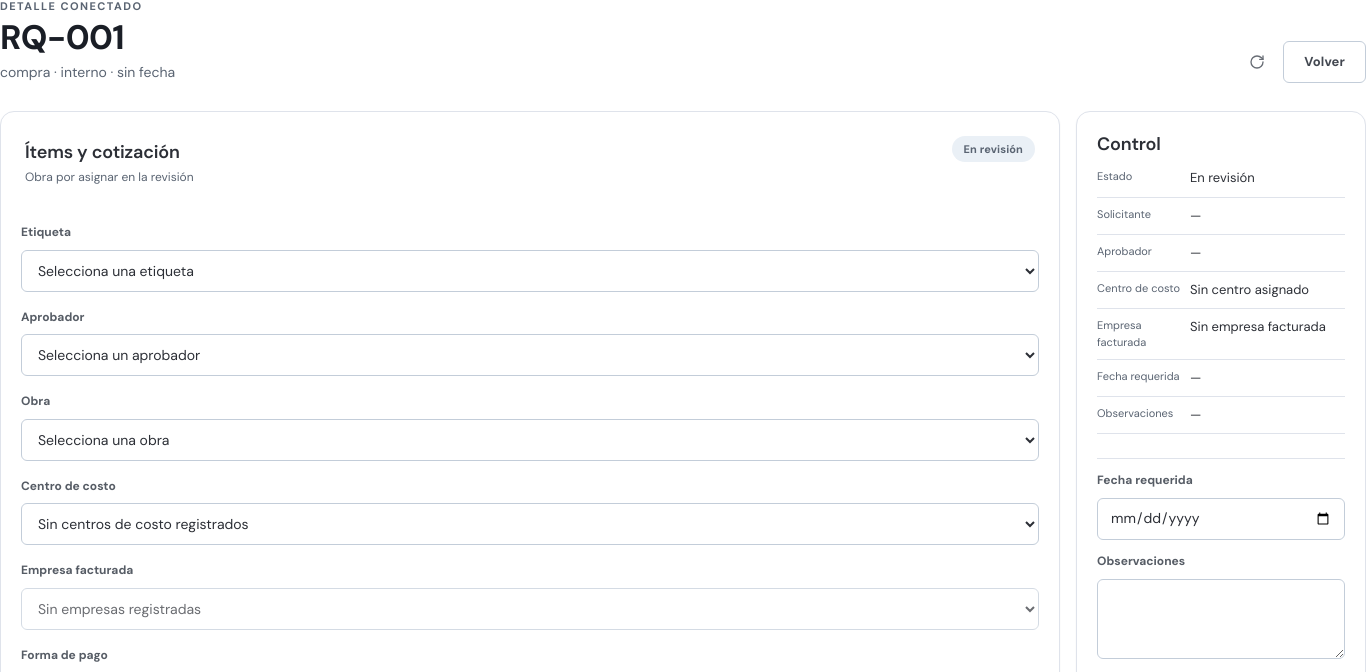
Scenario: revisión: obra por empresa, IVA/Desc como fracción y proveedor sin bloquear › sin aprobador, pulsar Enviar a aprobación enfoca el select de aprobador y no manda nada
This screenshot has width=1366, height=672.
Select "Sin sugerencia" in the dropdown labelled "Etiqueta" at (530, 271), box [21, 250, 1039, 292]
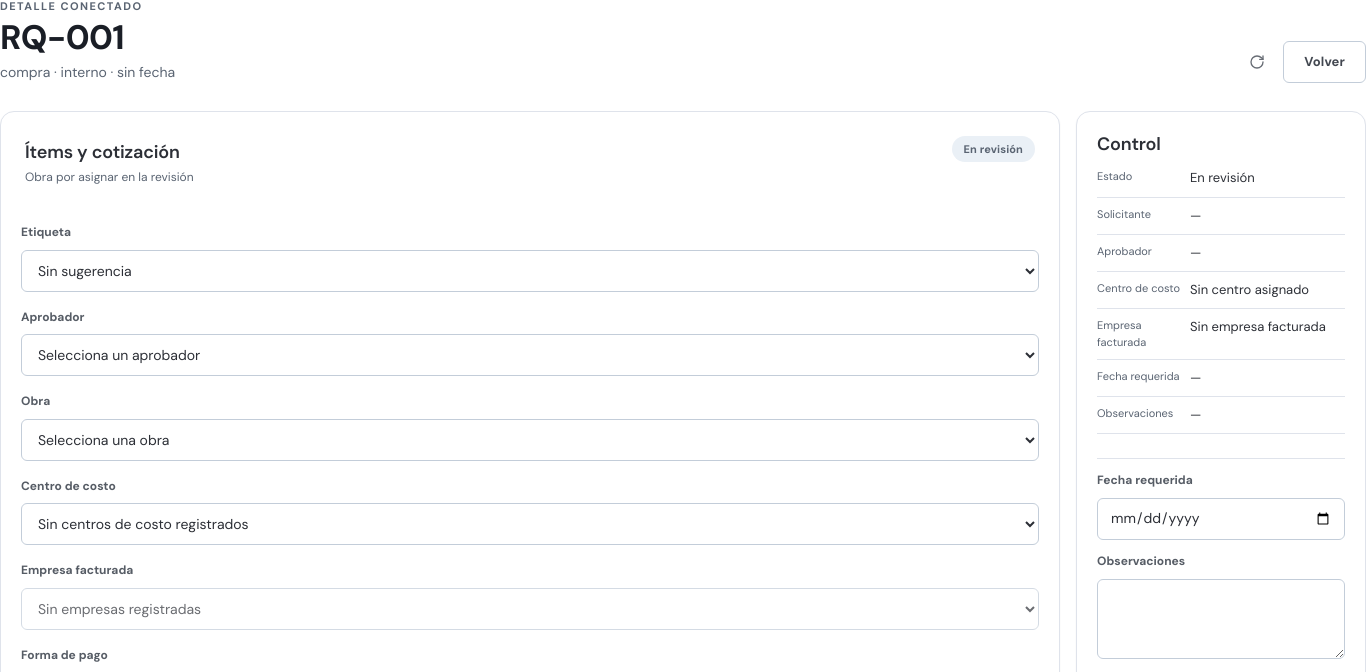
Select "Torre Norte" in the dropdown labelled "Obra" at (530, 440), box [21, 419, 1039, 461]
(page scrolled)
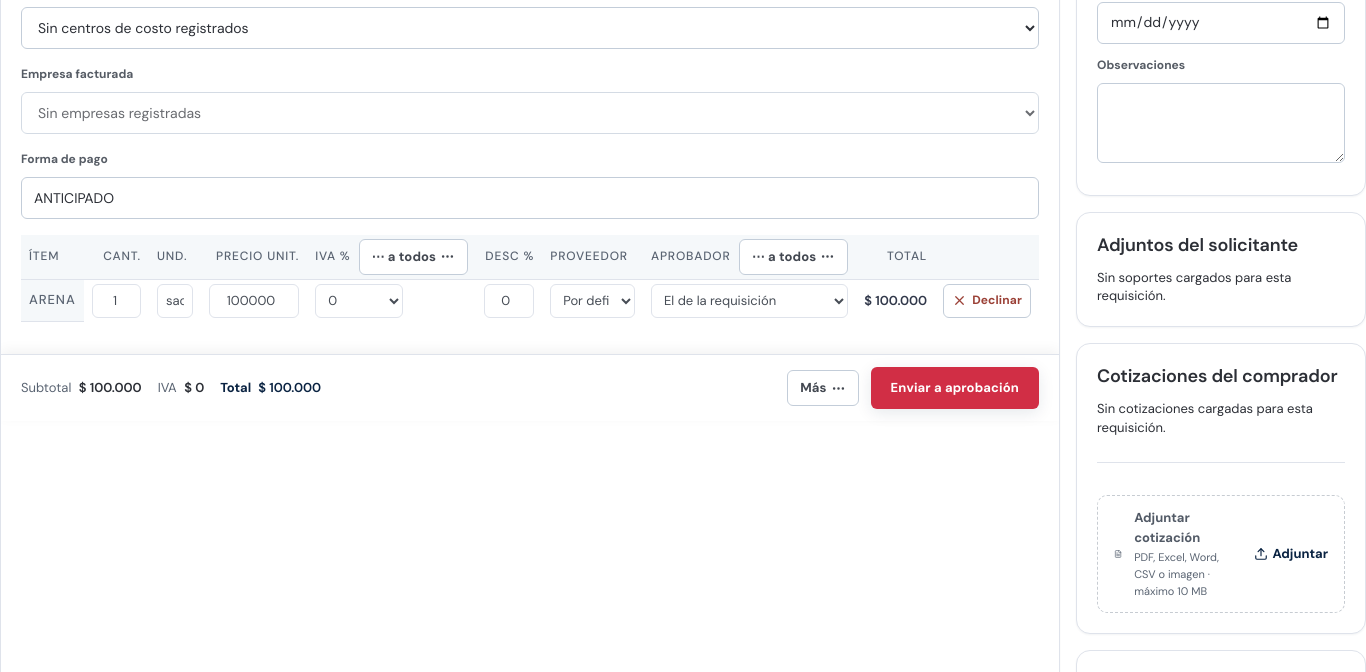
Click the button "Enviar a aprobación" at (955, 388), box [871, 367, 1039, 409]
(page scrolled)
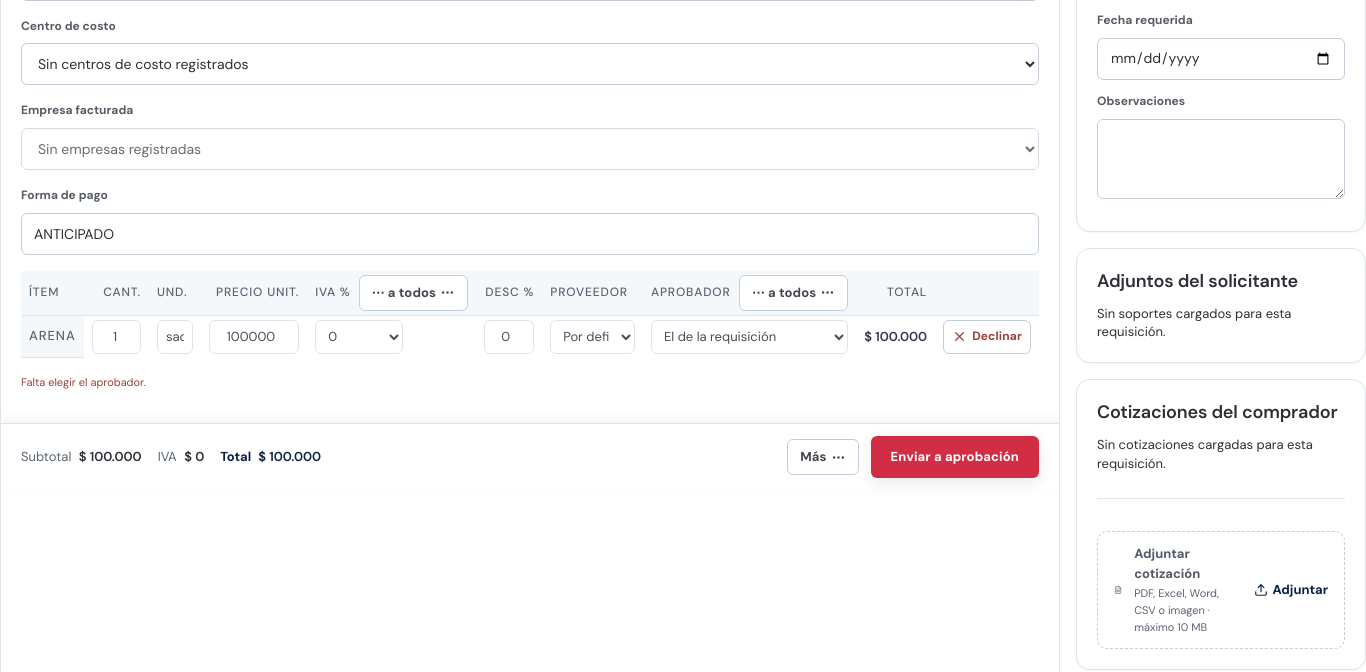
Check: the text "Falta elegir el aprobador." is shown, box [21, 375, 146, 389]
